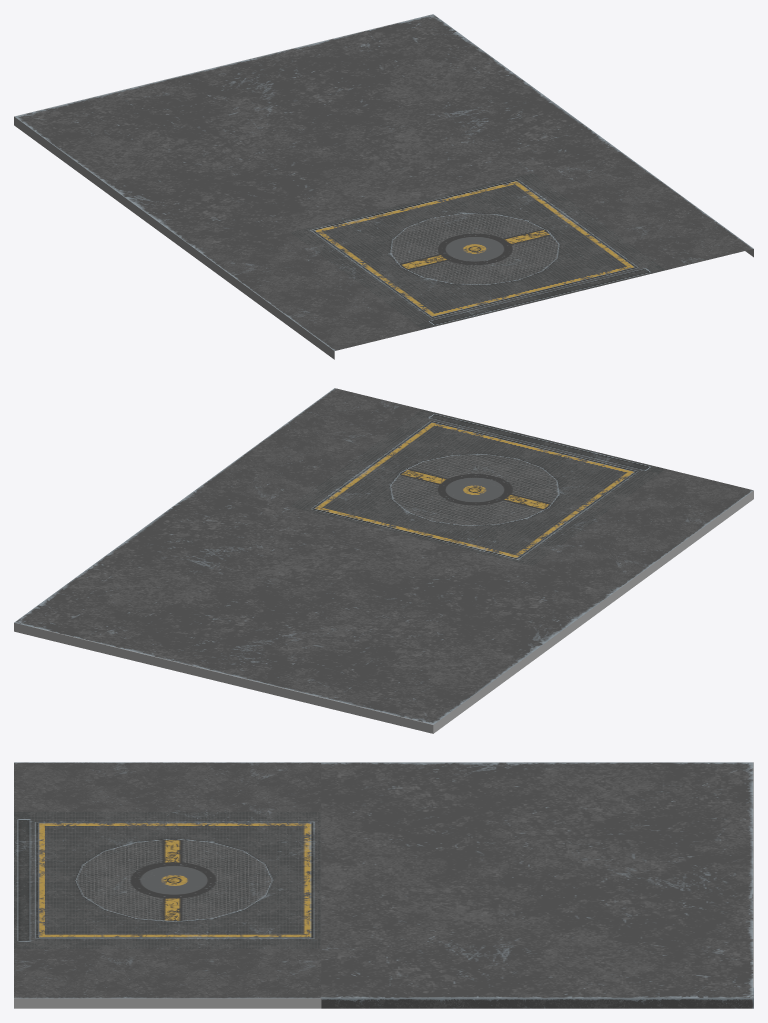
The model's file is Floor_floor_mdl.fbx.
3 renders of one model, top to bottom at view 1: azimuth 30°, elevation 25°; view 2: azimuth 150°, elevation 25°; view 3: azimuth 270°, elevation 25°, orthographic. The views are drawn at different scales.
Parts seen in each view (by area): view 1: Floor_floor_mdl_1; view 2: Floor_floor_mdl_1; view 3: Floor_floor_mdl_1.
Boxes of the visible parts, left/top/right/bottom form: Floor_floor_mdl_1: left=14, top=14, right=753, bottom=359; Floor_floor_mdl_1: left=14, top=388, right=753, bottom=733; Floor_floor_mdl_1: left=14, top=762, right=753, bottom=1008.
Size of the model in its own units: 298 by 6.03 by 395.
